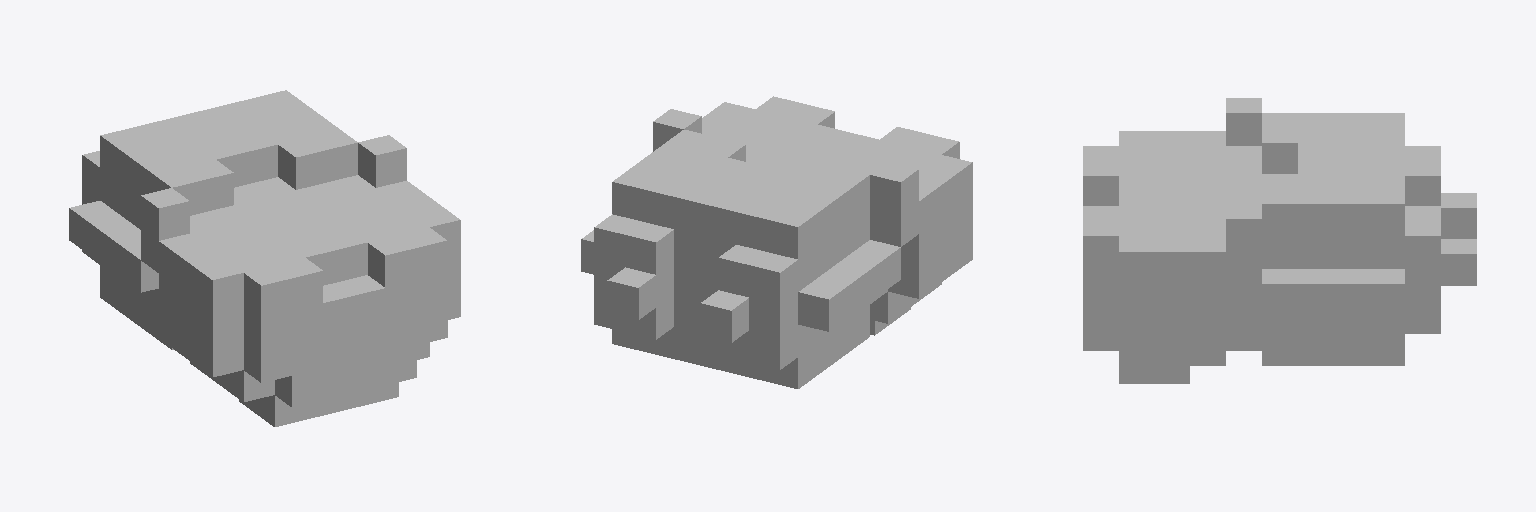
File: lady1.obj
3 renders of one model, left to right at view 1: azimuth 30°, elevation 25°; view 2: azimuth 150°, elevation 25°; view 3: azimuth 270°, elevation 25°, orthographic.
Parts seen in each view (by area): view 1: Model; view 2: Model; view 3: Model.
Boxes of the visible parts, x1=… form: Model: x1=69, y1=90, x2=460, y2=426; Model: x1=581, y1=96, x2=972, y2=388; Model: x1=1083, y1=98, x2=1476, y2=383.
Bounding box in the file's own units: 0.8 × 0.6 × 1.1.